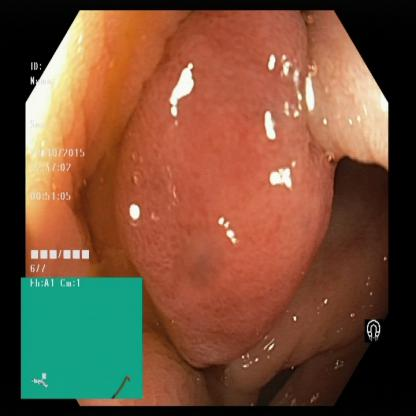Labels: (24, 60, 108, 280), (22, 279, 142, 402), (356, 313, 385, 351)
Polyps: (132, 66, 320, 342)
